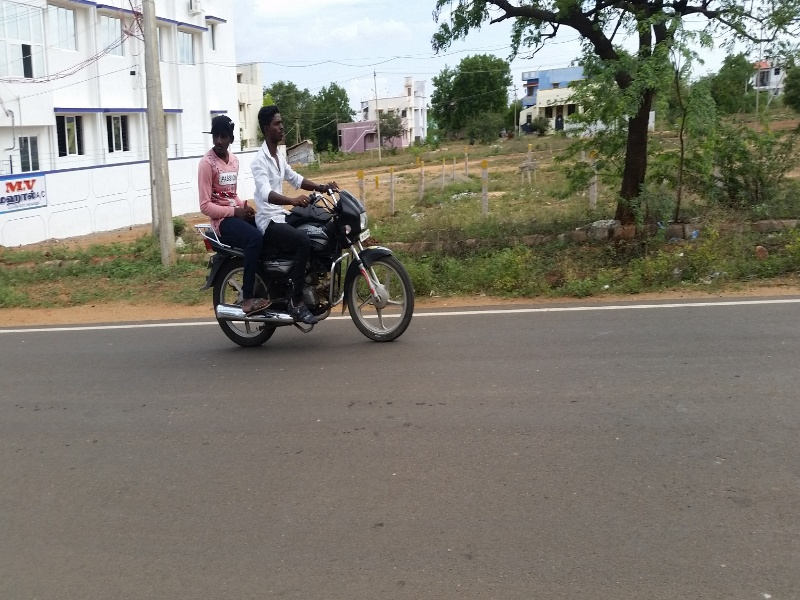biker: (174, 59, 433, 366)
nohelmet: (254, 95, 297, 159), (202, 106, 245, 170)
